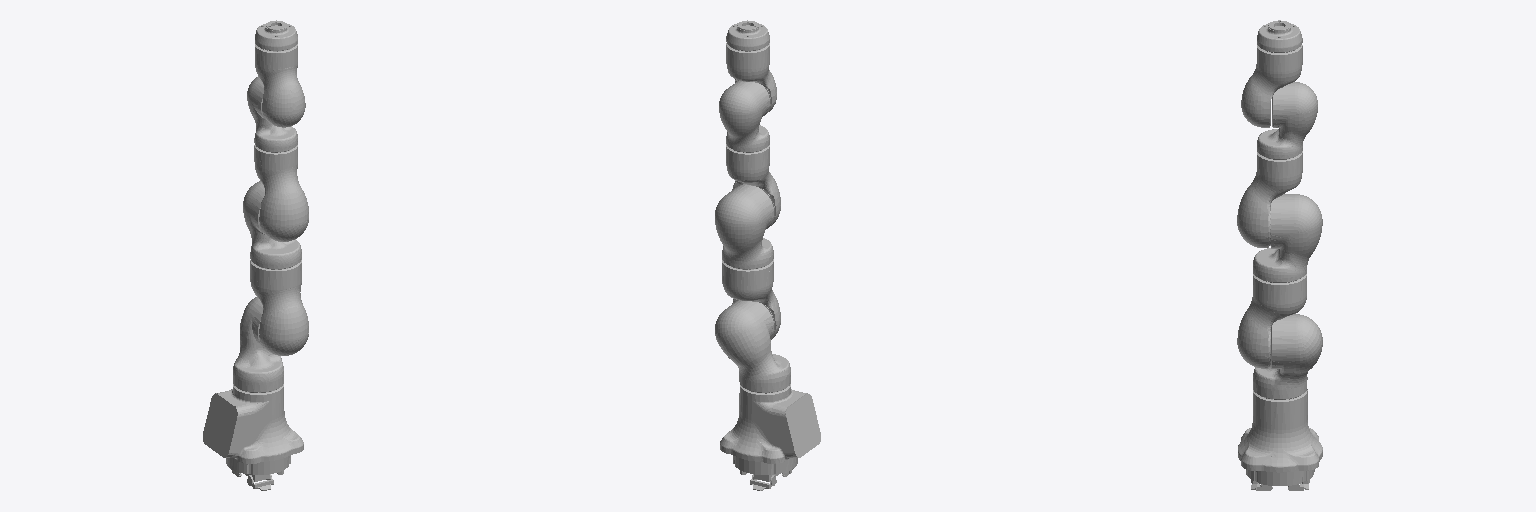
robot.urdf — kawasaki:
<?xml version="1.0"?>
<robot name="kawasaki">
    <link name="link0">
        <visual>
            <origin xyz="0 0 0" rpy="-1.5708 0 -1.5708" />
            <geometry>
                <mesh filename="package://kawasaki_description/meshes/link0.STL" />
            </geometry>
            <material name="gray">
                <color rgba="0.75 0.75 0.75 1"/>
            </material>
        </visual>
        <collision>
            <origin xyz="0 0 0" rpy="-1.5708 0 -1.5708" />
            <geometry>
                <mesh filename="package://kawasaki_description/meshes/link0.STL" />
            </geometry>
        </collision>
    </link>

    <joint name="joint0" type="revolute">
        <origin xyz="0 0 0.1675" rpy="0 0 0"/>
        <axis xyz="0 0 1"/>
        <limit lower="-3.1415926" upper="3.1415926" effort="100" velocity="0.4" />
        <parent link="link0"/>
        <child link="link1"/>
    </joint>

    <link name="link1">
        <visual>
            <origin xyz="0 0 0.148" rpy="0 0 -1.5708" />
            <geometry>
                <mesh filename="package://kawasaki_description/meshes/link1.STL" />
            </geometry>
            <material name="gray">
                <color rgba="0.75 0.75 0.75 1"/>
            </material>
        </visual>
        <collision>
            <origin xyz="0 0 0.148" rpy="0 0 -1.5708" />
            <geometry>
                <mesh filename="package://kawasaki_description/meshes/link1.STL" />
            </geometry>
        </collision>
    </link>

    <joint name="joint1" type="revolute">
        <origin xyz="0.05 -0.0005 0.148" rpy="0 0 0"/>
        <axis xyz="0 1 0"/>
        <limit lower="-3.1415926" upper="3.1415926" effort="100" velocity="0.4" />
        <parent link="link1"/>
        <child link="link2"/>
    </joint>

    <link name="link2">
        <visual>
            <origin xyz="0 0 0" rpy="0 0 -1.5708" />
            <geometry>
                <mesh filename="package://kawasaki_description/meshes/link2.STL" />
            </geometry>
            <material name="gray">
                <color rgba="0.75 0.75 0.75 1"/>
            </material>
        </visual>
        <collision>
            <origin xyz="0 0 0" rpy="0 0 -1.5708" />
            <geometry>
                <mesh filename="package://kawasaki_description/meshes/link2.STL" />
            </geometry>
        </collision>
    </link>

    <joint name="joint2" type="revolute">
        <origin xyz="0 0 0.1785" rpy="0 0 0"/>
        <axis xyz="0 0 1"/>
        <limit lower="-3.1415926" upper="3.1415926" effort="100" velocity="0.4" />
        <parent link="link2"/>
        <child link="link3"/>
    </joint>

    <link name="link3">
        <visual>
            <origin xyz="0 0 0.132" rpy="0 0 -1.5708" />
            <geometry>
                <mesh filename="package://kawasaki_description/meshes/link3.STL" />
            </geometry>
            <material name="gray">
                <color rgba="0.75 0.75 0.75 1"/>
            </material>
        </visual>
        <collision>
            <origin xyz="0 0 0.132" rpy="0 0 -1.5708" />
            <geometry>
                <mesh filename="package://kawasaki_description/meshes/link3.STL" />
            </geometry>
        </collision>
    </link>

    <joint name="joint3" type="revolute">
        <origin xyz="0 -0.0005 0.1325" rpy="0 0 0"/>
        <axis xyz="0 1 0"/>
        <limit lower="-3.1415926" upper="3.1415926" effort="100" velocity="0.4" />
        <parent link="link3"/>
        <child link="link4"/>
    </joint>

    <link name="link4">
        <visual>
            <origin xyz="0 0 0" rpy="0 0 -1.5708" />
            <geometry>
                <mesh filename="package://kawasaki_description/meshes/link4.STL" />
            </geometry>
            <material name="gray">
                <color rgba="0.75 0.75 0.75 1"/>
            </material>
        </visual>
        <collision>
            <origin xyz="0 0 0" rpy="0 0 -1.5708" />
            <geometry>
                <mesh filename="package://kawasaki_description/meshes/link4.STL" />
            </geometry>
        </collision>
    </link>


    <joint name="joint4" type="revolute">
        <origin xyz="0 0 0.18025" rpy="0 0 0"/>
        <axis xyz="0 0 1"/>
        <limit lower="-3.1415926" upper="3.1415926" effort="100" velocity="0.4" />
        <parent link="link4"/>
        <child link="link5"/>
    </joint>

    <link name="link5">
        <visual>
            <origin xyz="0 0 0.12" rpy="0 0 -1.5708" />
            <geometry>
                <mesh filename="package://kawasaki_description/meshes/link5.STL" />
            </geometry>
            <material name="gray">
                <color rgba="0.75 0.75 0.75 1"/>
            </material>
        </visual>
        <collision>
            <origin xyz="0 0 0.12" rpy="0 0 -1.5708" />
            <geometry>
                <mesh filename="package://kawasaki_description/meshes/link5.STL" />
            </geometry>
        </collision>
    </link>

    <joint name="joint5" type="revolute">
        <origin xyz="0 -0.0005 0.1205" rpy="0 0 0"/>
        <axis xyz="0 1 0"/>
        <limit lower="-3.1415926" upper="3.1415926" effort="100" velocity="0.4" />
        <parent link="link5"/>
        <child link="link6"/>
    </joint>

    <link name="link6">
        <visual>
            <origin xyz="0 0 0" rpy="0 0 -1.5708" />
            <geometry>
                <mesh filename="package://kawasaki_description/meshes/link6.STL" />
            </geometry>
            <material name="gray">
                <color rgba="0.75 0.75 0.75 1"/>
            </material>
        </visual>
        <collision>
            <origin xyz="0 0 0" rpy="0 0 -1.5708" />
            <geometry>
                <mesh filename="package://kawasaki_description/meshes/link6.STL" />
            </geometry>
        </collision>
    </link>

    <joint name="joint6" type="revolute">
        <origin xyz="0 0 0.1558" rpy="0 0 0"/>
        <axis xyz="0 0 1"/>
        <limit lower="-3.1415926" upper="3.1415926" effort="100" velocity="0.4" />
        <parent link="link6"/>
        <child link="link7"/>
    </joint>

    <link name="link7">
        <visual>
            <origin xyz="0 0 0.05" rpy="0 0 -1.5708" />
            <geometry>
                <mesh filename="package://kawasaki_description/meshes/link7.STL" />
            </geometry>
            <material name="gray">
                <color rgba="0.75 0.75 0.75 1"/>
            </material>
        </visual>
        <collision>
            <origin xyz="0 0 0.05" rpy="0 0 -1.5708" />
            <geometry>
                <mesh filename="package://kawasaki_description/meshes/link7.STL" />
            </geometry>
        </collision>
    </link>


<!--
    <link name="kinect_link">
        <visual>
            <origin xyz="0 0.016  0" rpy="-1.5708 0 3.1415926"/>
            <geometry>
                <mesh filename="package://kawasaki_description/meshes/kinect.dae" />
            </geometry>
        </visual>
    </link>

    <joint name="kinect_joint" type="fixed">
        <origin xyz="0.3 0.4 0.3" rpy="-1.83255 0 3.1415926"/>
        <parent link="link1"/>
        <child link="kinect_link"/>
    </joint>
-->

</robot>

--- What the picture shows (computed from the rendered views, not written in the file) ---
3 views of the same robot in one strip: view 1: azimuth 30°, elevation 25°; view 2: azimuth 150°, elevation 25°; view 3: azimuth 270°, elevation 25° (orthographic).
Robot: kawasaki — 8 links, 7 joints (7 revolute); root link link0; default pose: all joints at 0.
Visible links, largest first — view 1: link0, link2, link4, link6, link1, link3, link5, link7; view 2: link0, link1, link3, link5, link2, link4, link6, link7; view 3: link0, link3, link1, link2, link4, link5, link6, link7.
Link boxes in pixels (<box>): link0: <box>203,384,303,490</box>; link2: <box>250,260,308,355</box>; link4: <box>254,145,308,241</box>; link6: <box>255,44,305,127</box>; link1: <box>233,297,283,392</box>; link3: <box>243,181,301,268</box>; link5: <box>247,76,297,152</box>; link7: <box>255,20,297,50</box>; link0: <box>720,384,820,490</box>; link1: <box>715,300,790,392</box>; link3: <box>715,184,773,268</box>; link5: <box>719,81,769,152</box>; link2: <box>722,259,780,339</box>; link4: <box>726,144,780,225</box>; link6: <box>726,43,776,112</box>; link7: <box>726,20,769,50</box>; link0: <box>1238,389,1322,490</box>; link3: <box>1253,194,1322,282</box>; link1: <box>1253,314,1322,399</box>; link2: <box>1237,274,1306,368</box>; link4: <box>1237,151,1302,247</box>; link5: <box>1257,82,1317,159</box>; link6: <box>1241,45,1302,127</box>; link7: <box>1257,20,1302,52</box>.
Size in the robot's own frame: 0.2409 by 0.201 by 1.23 metres.
Meshes: 8 distinct files referenced, 8 mesh visuals loaded (8 binary STL).